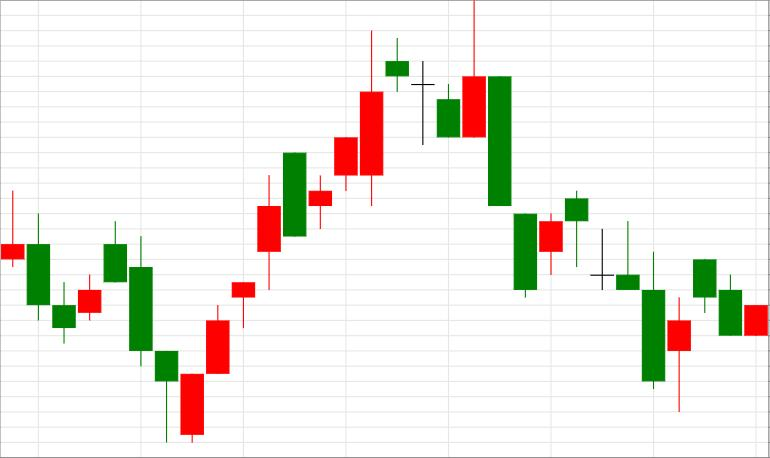three_white_soldiers_rise: (104, 219, 255, 444)
